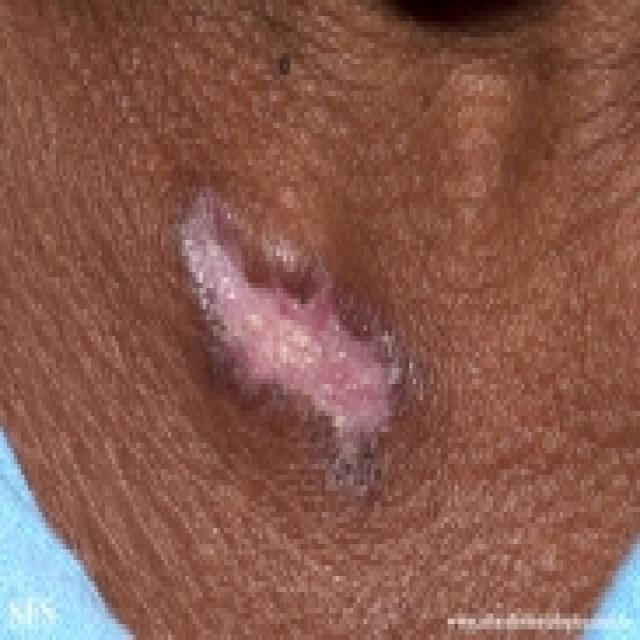lupus: (164, 149, 448, 514)
